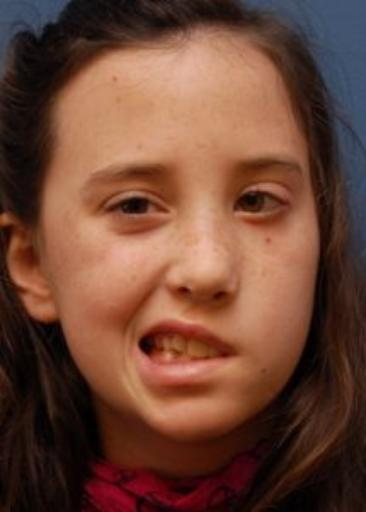left_eye: (232, 191, 291, 218)
left_lip_corner: (230, 347, 244, 362)
right_eye: (107, 196, 174, 220)
right_lip_corner: (130, 335, 149, 352)
